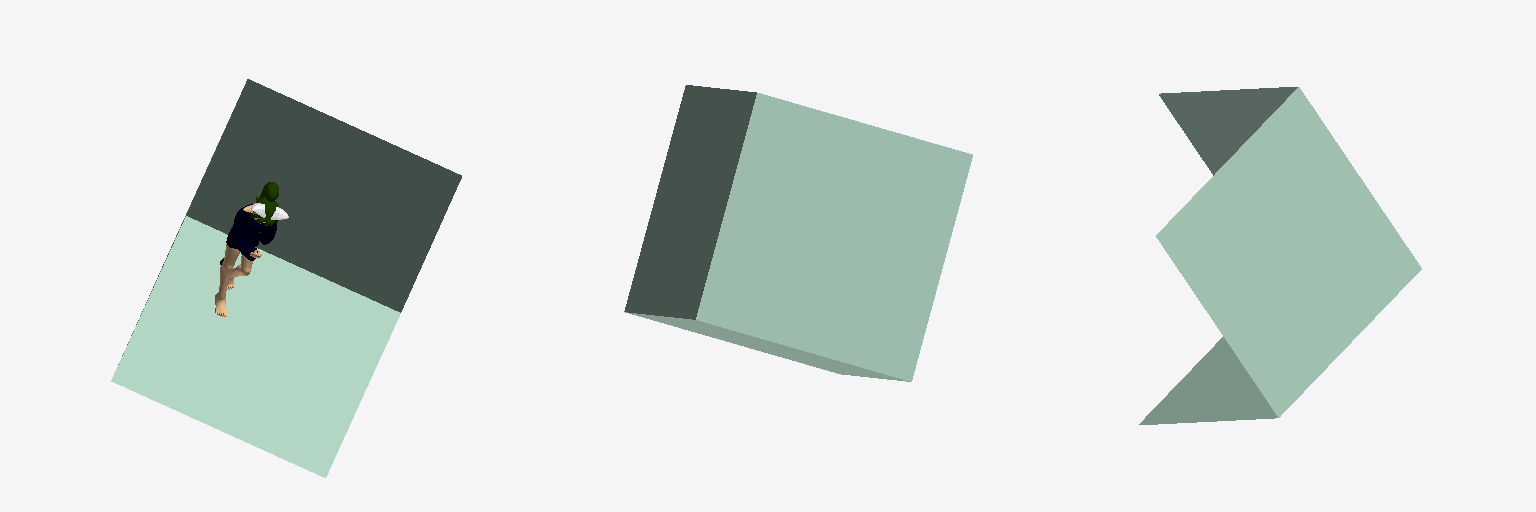
The model's file is Girl.obj.
3 views of the same model, side by side, from view 1: azimuth 30°, elevation 25°; view 2: azimuth 150°, elevation 25°; view 3: azimuth 270°, elevation 25° (orthographic).
Bounding box in the file's own units: 198 × 223 × 169.